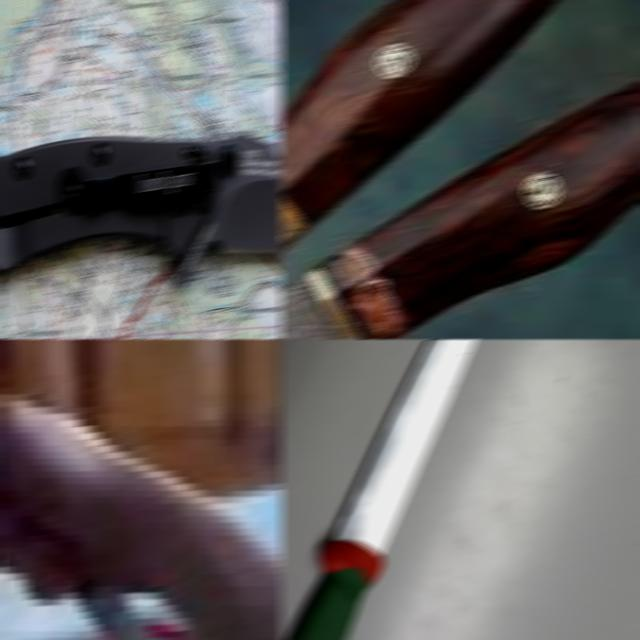Knife: (285, 339, 477, 640)
Knife_Handle: (0, 372, 206, 640)
